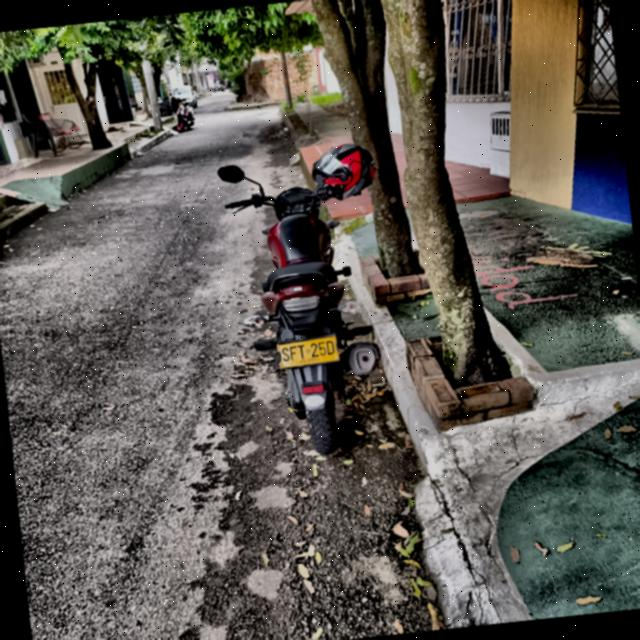plate: (276, 335, 339, 369)
